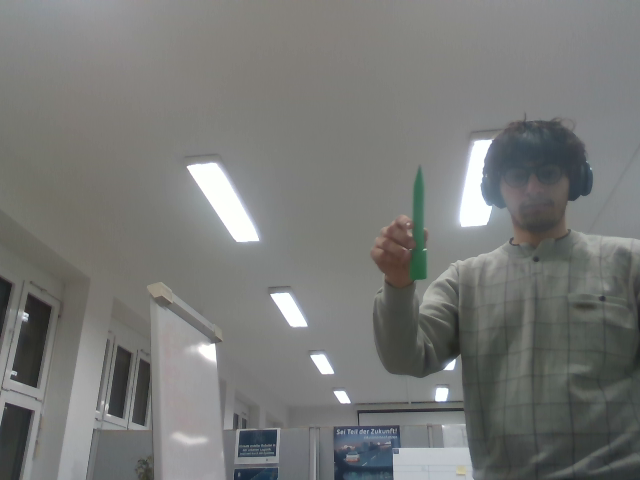Probe: (408, 163, 430, 282)
